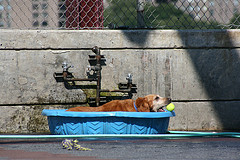tennis ball: (165, 101, 175, 111)
